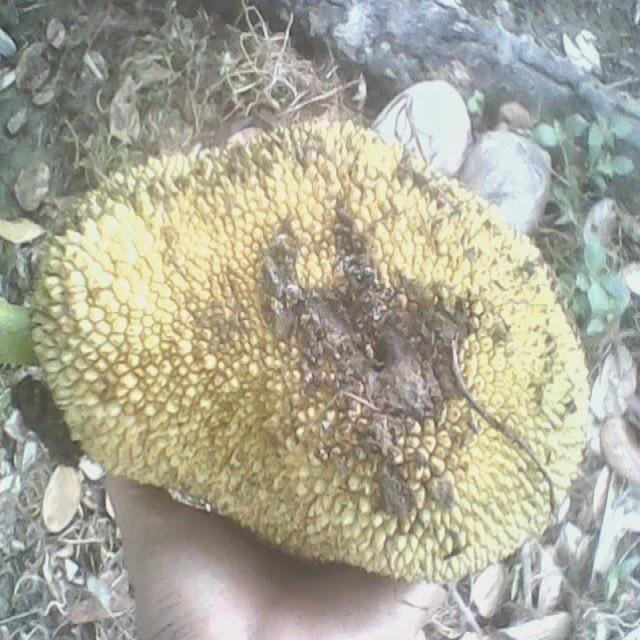Organik: (32, 123, 592, 578)
